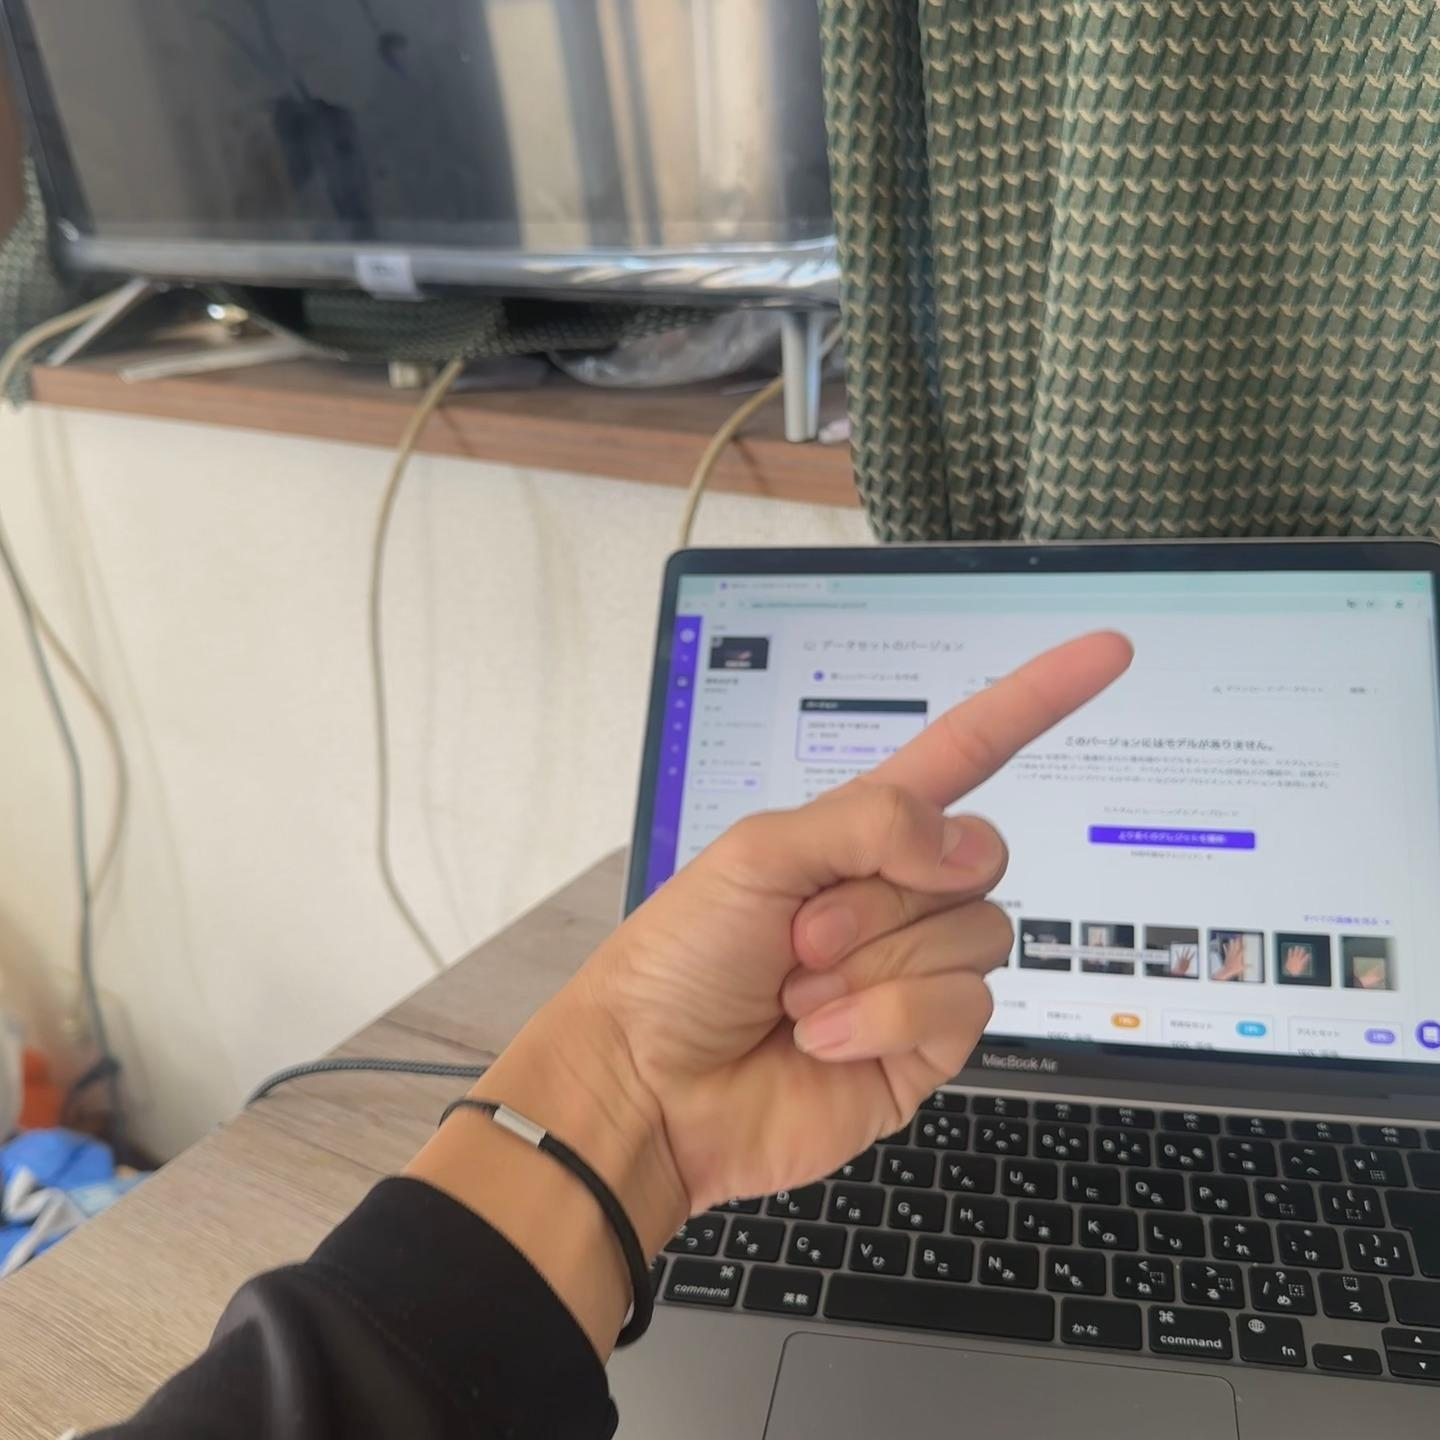without_gloves: (502, 495, 1273, 1269)
